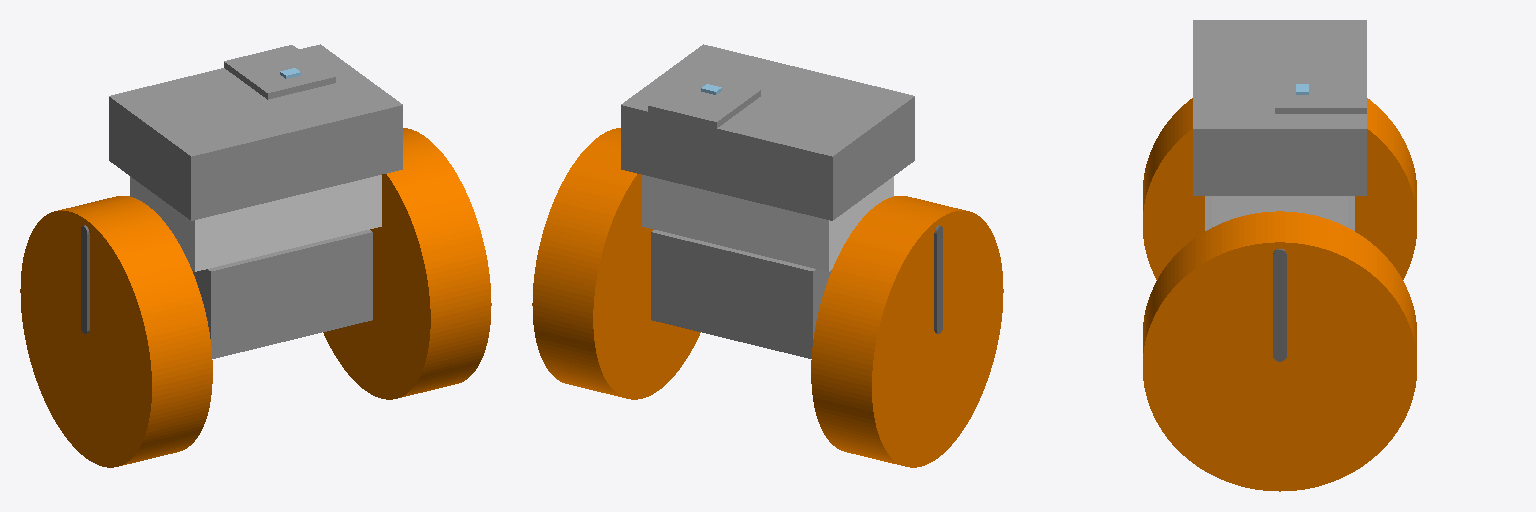
The robot description file, URDF, robot "assembly_simplified":
<!--URDF generated by ONSHAPE BY PTC INC, 1.223-->
<robot name="assembly_simplified">
    <link name="electronics">
        <inertial>
            <mass value="0.0325393" />
            <origin xyz="0.000190642 0.000149198 0.00824754" rpy="0 -0 0" />
            <inertia ixx="4.61315e-06" ixy="-5.49049e-08" ixz="-5.42948e-08" iyy="9.12971e-06" iyz="-4.24916e-08" izz="1.22589e-05" />
        </inertial>
        <visual>
            <origin xyz="3.21266e-18 1.40548e-34 -0.0265542" rpy="0 -0 0" />
            <geometry>
                <mesh filename="package://assembly_simplified/meshes/Electronics.stl" scale="1 1 1" />
            </geometry>
            <material name="0.647059_0.647059_0.647059_0.000000_0.000000">
                <color rgba="0.647059 0.647059 0.647059 1" />
            </material>
        </visual>
    </link>
    <link name="lipos">
        <inertial>
            <mass value="0.0392298" />
            <origin xyz="-1.73472e-18 -9.75782e-19 0.007625" rpy="0 -0 0" />
            <inertia ixx="3.62458e-06" ixy="0" ixz="0" iyy="8.64159e-06" iyz="0" izz="1.07456e-05" />
        </inertial>
        <visual>
            <origin xyz="-1.73472e-18 0.00015 -0.0113042" rpy="0 -0 0" />
            <geometry>
                <mesh filename="package://assembly_simplified/meshes/Lipos.stl" scale="1 1 1" />
            </geometry>
            <material name="0.901961_0.901961_0.901961_0.000000_0.000000">
                <color rgba="0.901961 0.901961 0.901961 1" />
            </material>
        </visual>
    </link>
    <link name="mark_wheel">
        <inertial>
            <mass value="4.74412e-08" />
            <origin xyz="-0.0003 1.75615e-19 0.015" rpy="0 -0 0" />
            <inertia ixx="2.7863e-12" ixy="0" ixz="0" iyy="2.75293e-12" iyz="0" izz="3.62089e-14" />
        </inertial>
        <visual>
            <origin xyz="0.044675 -2.8987e-34 0.00685" rpy="0 -0 0" />
            <geometry>
                <mesh filename="package://assembly_simplified/meshes/mark_wheel.stl" scale="1 1 1" />
            </geometry>
            <material name="0.498039_0.498039_0.498039_0.000000_0.000000">
                <color rgba="0.498039 0.498039 0.498039 1" />
            </material>
        </visual>
    </link>
    <link name="mark_wheel_1">
        <inertial>
            <mass value="4.74412e-08" />
            <origin xyz="-0.0003 1.75615e-19 0.015" rpy="0 -0 0" />
            <inertia ixx="2.7863e-12" ixy="0" ixz="0" iyy="2.75293e-12" iyz="0" izz="3.62089e-14" />
        </inertial>
        <visual>
            <origin xyz="0.044675 -2.8987e-34 0.00685" rpy="0 -0 0" />
            <geometry>
                <mesh filename="package://assembly_simplified/meshes/mark_wheel.stl" scale="1 1 1" />
            </geometry>
            <material name="0.498039_0.498039_0.498039_0.000000_0.000000">
                <color rgba="0.498039 0.498039 0.498039 1" />
            </material>
        </visual>
    </link>
    <link name="motor_base">
        <inertial>
            <mass value="0.045684" />
            <origin xyz="4.25866e-19 1.06869e-18 0.0370771" rpy="0 -0 0" />
            <inertia ixx="5.96765e-06" ixy="0" ixz="0" iyy="8.82605e-06" iyz="0" izz="1.10567e-05" />
        </inertial>
        <visual>
            <origin xyz="0 0 0.03685" rpy="0 -0 0" />
            <geometry>
                <mesh filename="package://assembly_simplified/meshes/Motor_base.stl" scale="1 1 1" />
            </geometry>
            <material name="0.647059_0.647059_0.647059_0.000000_0.000000">
                <color rgba="0.647059 0.647059 0.647059 1" />
            </material>
        </visual>
    </link>
    <link name="root" />
    <link name="sensor_imu">
        <inertial>
            <mass value="8.96e-09" />
            <origin xyz="-3.46945e-18 -2.60209e-18 0.0004" rpy="0 -0 0" />
            <inertia ixx="6.33173e-15" ixy="0" ixz="0" iyy="1.24245e-14" iyz="0" izz="1.78005e-14" />
        </inertial>
        <visual>
            <origin xyz="-0.012 -0.005 -0.0443542" rpy="0 -0 0" />
            <geometry>
                <mesh filename="package://assembly_simplified/meshes/sensor_IMU.stl" scale="1 1 1" />
            </geometry>
            <material name="0.615686_0.811765_0.929412_0.000000_0.000000">
                <color rgba="0.615686 0.811765 0.929412 1" />
            </material>
        </visual>
    </link>
    <link name="sketch_wheelbase__1_">
        <inertial>
            <mass value="1e-09" />
            <origin xyz="0 0 0.03685" rpy="0 -0 0" />
            <inertia ixx="4e-14" ixy="0" ixz="0" iyy="4e-14" iyz="0" izz="4e-14" />
        </inertial>
    </link>
    <link name="wheel">
        <inertial>
            <mass value="0.0565487" />
            <origin xyz="-0.008 -1.11482e-18 2.60209e-18" rpy="0 -0 0" />
            <inertia ixx="2.54469e-05" ixy="0" ixz="0" iyy="1.39298e-05" iyz="0" izz="1.39298e-05" />
        </inertial>
        <visual>
            <origin xyz="0.028675 -1.89911e-65 0.00685" rpy="0 -0 0" />
            <geometry>
                <mesh filename="package://assembly_simplified/meshes/Wheel.stl" scale="1 1 1" />
            </geometry>
            <material name="0.972549_0.529412_0.003922_0.000000_0.000000">
                <color rgba="0.972549 0.529412 0.00392157 1" />
            </material>
        </visual>
    </link>
    <link name="wheel_1">
        <inertial>
            <mass value="0.0565487" />
            <origin xyz="-0.008 -1.11482e-18 2.60209e-18" rpy="0 -0 0" />
            <inertia ixx="2.54469e-05" ixy="0" ixz="0" iyy="1.39298e-05" iyz="0" izz="1.39298e-05" />
        </inertial>
        <visual>
            <origin xyz="0.028675 -1.89911e-65 0.00685" rpy="0 -0 0" />
            <geometry>
                <mesh filename="package://assembly_simplified/meshes/Wheel.stl" scale="1 1 1" />
            </geometry>
            <material name="0.972549_0.529412_0.003922_0.000000_0.000000">
                <color rgba="0.972549 0.529412 0.00392157 1" />
            </material>
        </visual>
    </link>
    <joint name="fastened_1" type="fixed">
        <origin xyz="0 0 0" rpy="0 -0 0" />
        <axis xyz="-0 -0 -1" />
        <parent link="root" />
        <child link="motor_base" />
    </joint>
    <joint name="fastened_2" type="fixed">
        <origin xyz="0 0 0" rpy="0 -0 0" />
        <axis xyz="0 0 1" />
        <parent link="root" />
        <child link="sketch_wheelbase__1_" />
    </joint>
    <joint name="fastened_2_1" type="fixed">
        <origin xyz="-1.92593e-34 -3.41524e-18 0.0481542" rpy="1.35525e-16 6.93335e-33 0" />
        <axis xyz="-1.13185e-16 -2.46519e-32 -1" />
        <parent link="motor_base" />
        <child link="lipos" />
    </joint>
    <joint name="fastened_3" type="fixed">
        <origin xyz="-1.73472e-18 -1.77043e-18 0.01525" rpy="-2.46519e-32 -6.93335e-33 9.39644e-49" />
        <axis xyz="5.37867e-64 5.29287e-33 -1" />
        <parent link="lipos" />
        <child link="electronics" />
    </joint>
    <joint name="fastened_4" type="fixed">
        <origin xyz="0.012 0.005 0.0178" rpy="1.49574e-113 6.36727e-65 4.69822e-49" />
        <axis xyz="6.93335e-33 1.08671e-47 -1" />
        <parent link="electronics" />
        <child link="sensor_imu" />
    </joint>
    <joint name="fastened_5" type="fixed">
        <origin xyz="-0.016 2.8987e-34 -3.46945e-18" rpy="-3.14159 -4.33681e-16 3.50325e-45" />
        <axis xyz="-1 -2.94004e-48 -2.38524e-16" />
        <parent link="wheel_1" />
        <child link="mark_wheel_1" />
    </joint>
    <joint name="fastened_6" type="fixed">
        <origin xyz="-0.016 2.8987e-34 -3.46945e-18" rpy="3.14159 -4.33681e-16 6.41464e-48" />
        <axis xyz="-1 -2.94004e-48 -2.38524e-16" />
        <parent link="wheel" />
        <child link="mark_wheel" />
    </joint>
    <joint name="wheel_left" type="continuous">
        <origin xyz="-0.028675 0 0.03" rpy="3.14159 4.2039e-44 -1.82169e-44" />
        <axis xyz="1 0 0" />
        <parent link="sketch_wheelbase__1_" />
        <child link="wheel_1" />
    </joint>
    <joint name="wheel_right" type="continuous">
        <origin xyz="0.028675 7.59038e-80 0.03" rpy="3.14159 -0 3.14159" />
        <axis xyz="1 -0 -0" />
        <parent link="sketch_wheelbase__1_" />
        <child link="wheel" />
    </joint>
</robot>

--- What the picture shows (computed from the rendered views, not written in the file) ---
Views: 3 orthographic renders of the robot side by side, from view 1: azimuth 30°, elevation 25°; view 2: azimuth 150°, elevation 25°; view 3: azimuth 270°, elevation 25°.
Robot: assembly_simplified — 10 links, 9 joints (2 continuous, 7 fixed); root link root; default pose: every joint at zero.
Links seen in each view (by area): view 1: wheel_1, electronics, wheel, motor_base, lipos, mark_wheel_1; view 2: wheel_1, electronics, wheel, motor_base, lipos, mark_wheel_1; view 3: wheel, electronics, wheel_1, lipos, mark_wheel.
Boxes of the visible links, bbox=[...] form: wheel_1: bbox=[20, 196, 212, 467]; electronics: bbox=[109, 44, 402, 220]; wheel: bbox=[323, 128, 491, 399]; motor_base: bbox=[192, 230, 372, 358]; lipos: bbox=[130, 175, 381, 271]; mark_wheel_1: bbox=[81, 225, 89, 333]; wheel_1: bbox=[811, 196, 1003, 467]; electronics: bbox=[621, 44, 914, 220]; wheel: bbox=[532, 128, 700, 399]; motor_base: bbox=[651, 230, 831, 358]; lipos: bbox=[642, 175, 893, 271]; mark_wheel_1: bbox=[934, 225, 942, 333]; wheel: bbox=[1143, 211, 1416, 491]; electronics: bbox=[1193, 20, 1366, 195]; wheel_1: bbox=[1143, 98, 1416, 279]; lipos: bbox=[1212, 196, 1347, 226]; mark_wheel: bbox=[1273, 249, 1286, 361].
Bounding box of the posed robot: 0.0906 × 0.06 × 0.082 m (x, y, z).
Meshes: 6 distinct files referenced, 8 mesh visuals loaded (6 binary STL).
